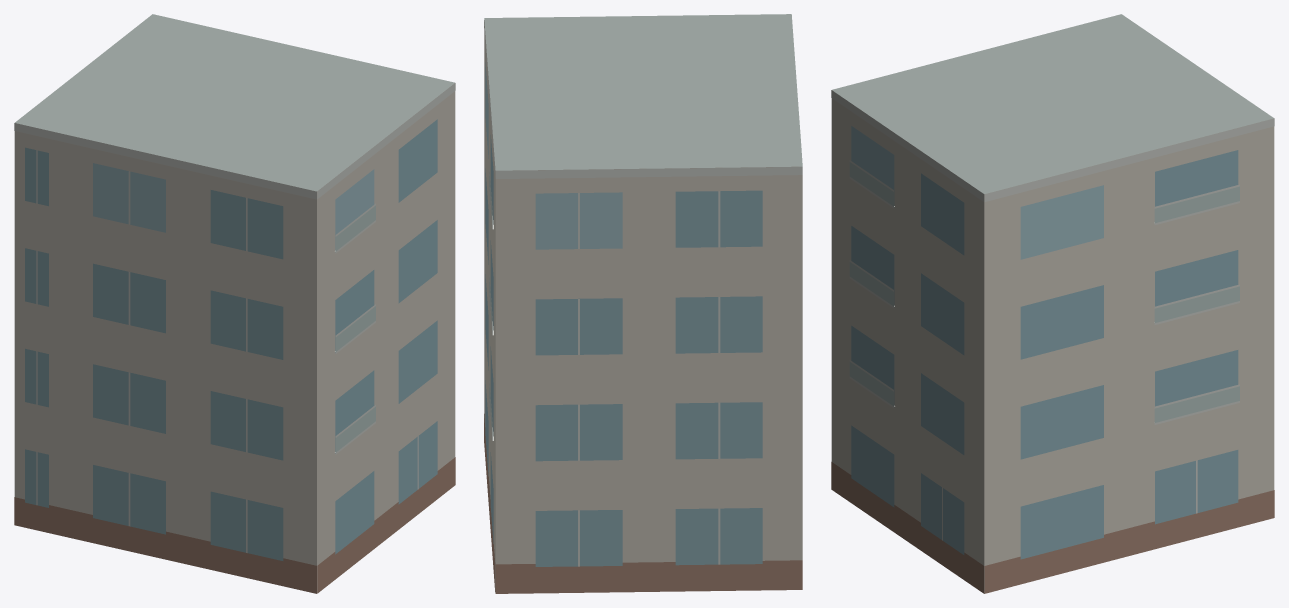
Rendered from residential-f6ea876c-d297-4c4d-9aae-eb67035aefe7.glb.
3 renders of one model, left to right at view 1: azimuth 30°, elevation 25°; view 2: azimuth 150°, elevation 25°; view 3: azimuth 270°, elevation 25°, orthographic. The views are drawn at different scales.
Visible parts, largest first — view 1: residential-f6ea876c-d297-4c4d-9aae-eb67035aefe7.tmp; view 2: residential-f6ea876c-d297-4c4d-9aae-eb67035aefe7.tmp; view 3: residential-f6ea876c-d297-4c4d-9aae-eb67035aefe7.tmp.
Part boxes in pixels (x1,y1,x2,y2): residential-f6ea876c-d297-4c4d-9aae-eb67035aefe7.tmp: (14, 14, 455, 593); residential-f6ea876c-d297-4c4d-9aae-eb67035aefe7.tmp: (484, 14, 802, 593); residential-f6ea876c-d297-4c4d-9aae-eb67035aefe7.tmp: (831, 14, 1274, 593).
Size of the model in its own units: 11.81 by 12.2 by 12.27.
